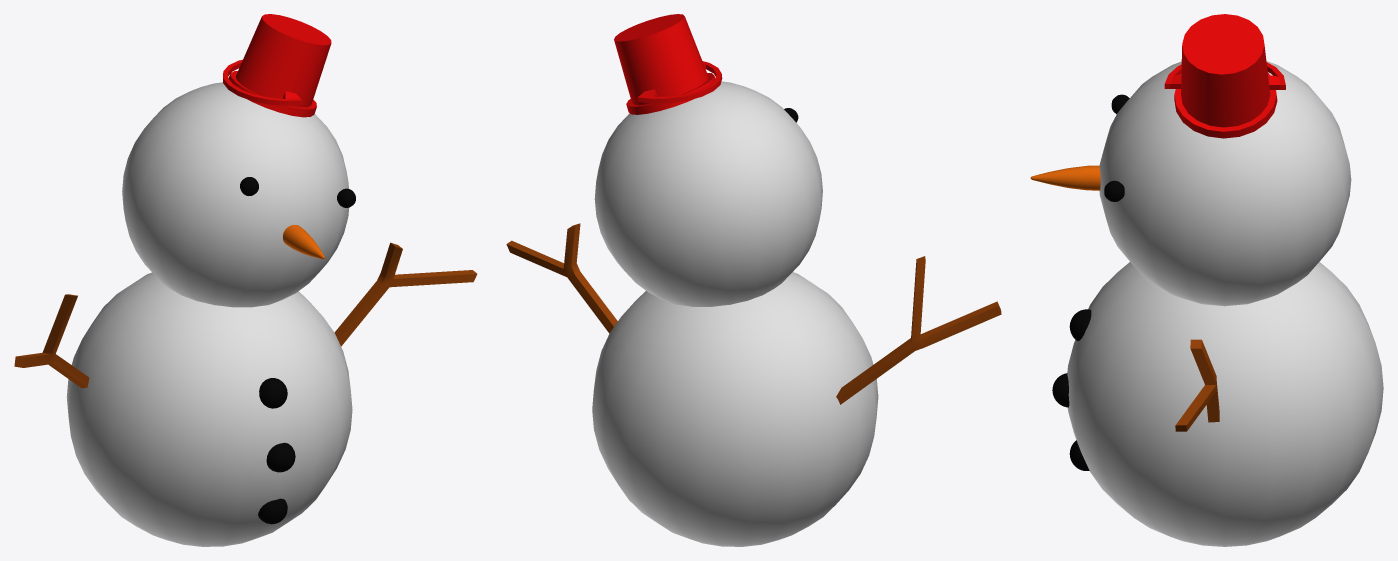
The model's file is snowman.fbx.
3 views of the same model, side by side, from view 1: azimuth 30°, elevation 25°; view 2: azimuth 150°, elevation 25°; view 3: azimuth 270°, elevation 25° (orthographic). The views are drawn at different scales.
Visible parts, largest first — view 1: pSphere8; view 2: pSphere8; view 3: pSphere8.
Part boxes in pixels (x1=…): pSphere8: x1=14, y1=14, x2=477, y2=546; pSphere8: x1=506, y1=14, x2=1001, y2=546; pSphere8: x1=1030, y1=14, x2=1383, y2=546.
Bounding box in the file's own units: 34.69 × 34.55 × 20.16.
